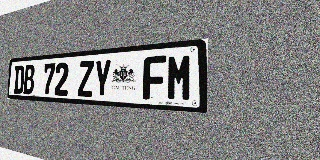2: (54, 62, 69, 96)
7: (42, 63, 55, 95)
B: (23, 64, 35, 94)
D: (13, 65, 24, 94)
F: (143, 55, 166, 100)
M: (166, 53, 193, 102)
Y: (93, 59, 112, 98)
Z: (77, 60, 94, 97)
